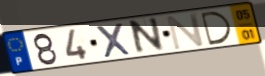4: (64, 27, 90, 62)
8: (32, 32, 59, 66)
D: (198, 10, 234, 47)
N: (165, 11, 207, 52), (129, 16, 166, 57)
X: (93, 21, 134, 60)
